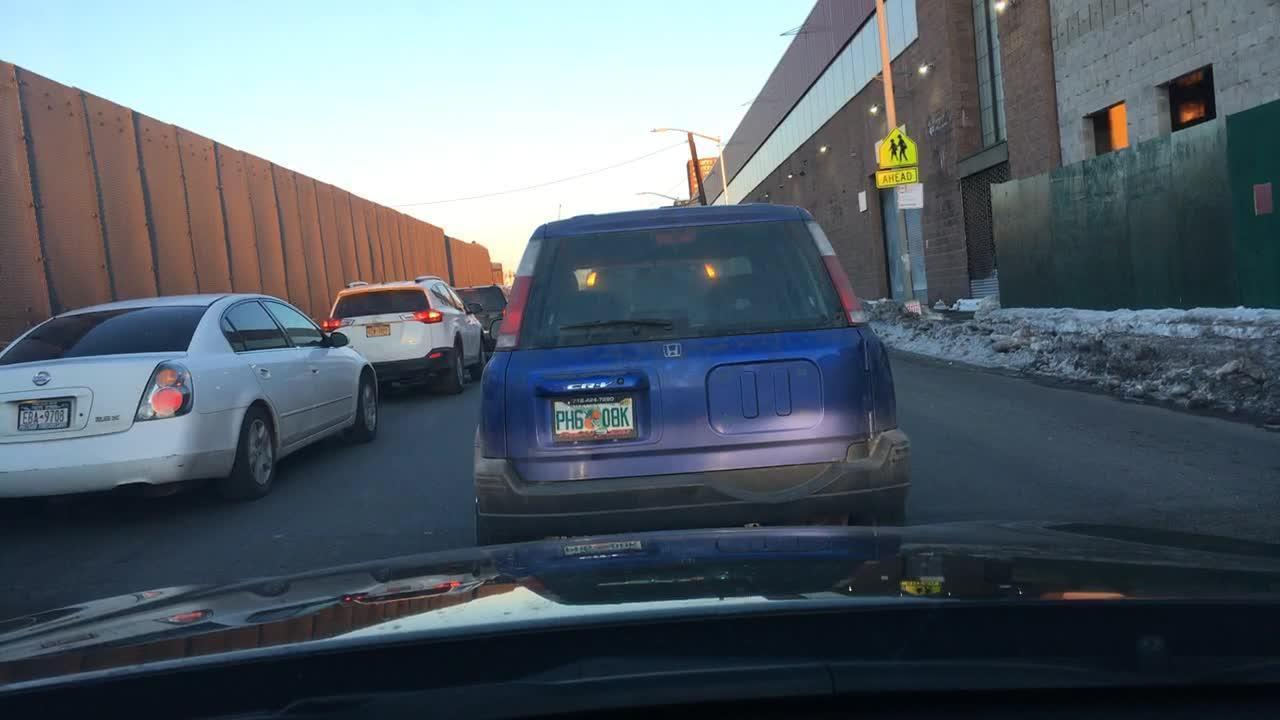Honda: (653, 335, 687, 368)
Nissan: (27, 364, 60, 393)
